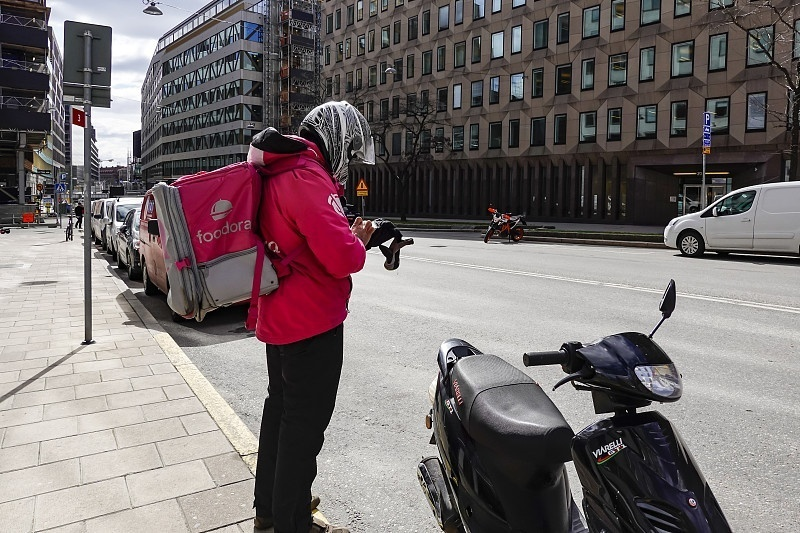non-vehicle: (402, 298, 759, 526), (481, 208, 522, 242)
